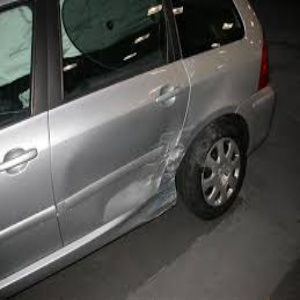door: (57, 119, 185, 214)
